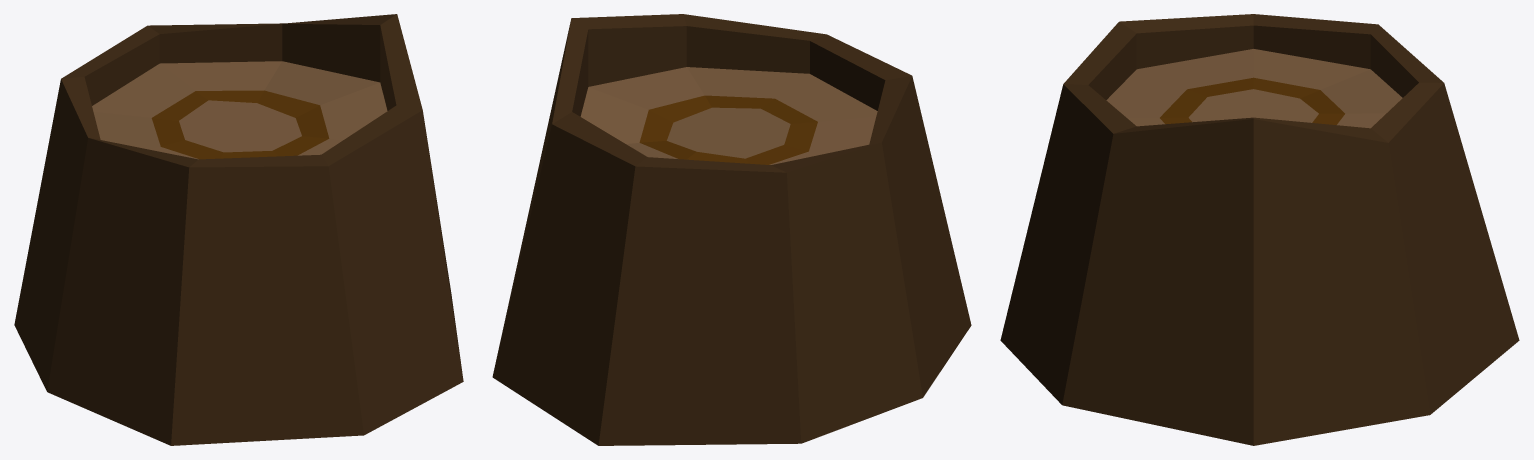
Rendered from LowPoly_TreeStump.fbx.
3 views of the same model, side by side, from view 1: azimuth 30°, elevation 25°; view 2: azimuth 150°, elevation 25°; view 3: azimuth 270°, elevation 25° (orthographic). The views are drawn at different scales.
Visible parts, largest first — view 1: Stump; view 2: Stump; view 3: Stump.
Part boxes in pixels (left/top/right/bottom): Stump: left=14, top=14, right=463, bottom=445; Stump: left=492, top=14, right=971, bottom=445; Stump: left=1000, top=14, right=1519, bottom=445.
Bounding box in the file's own units: 76.66 × 53.05 × 83.19.
